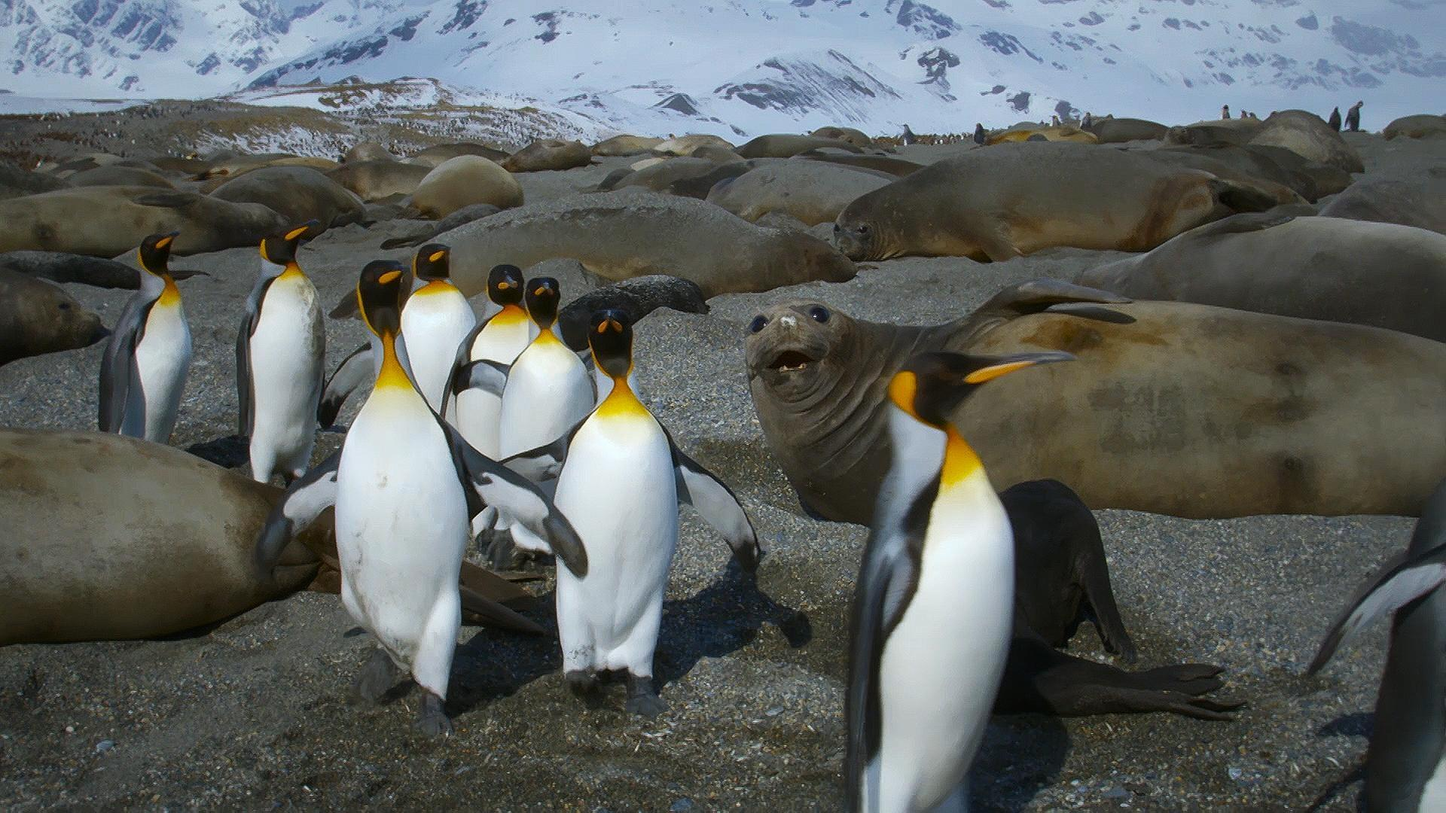Penguin: (257, 258, 587, 733), (503, 308, 760, 717), (844, 353, 1072, 812), (1305, 475, 1444, 812), (453, 276, 596, 461), (237, 221, 325, 483), (99, 232, 191, 443), (401, 243, 477, 411), (452, 266, 531, 374), (473, 504, 552, 569), (316, 343, 373, 430), (440, 378, 499, 459)
